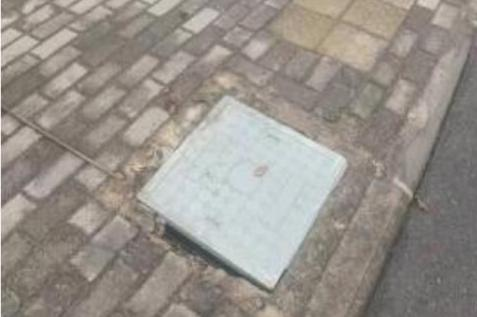good: (132, 87, 353, 290)
